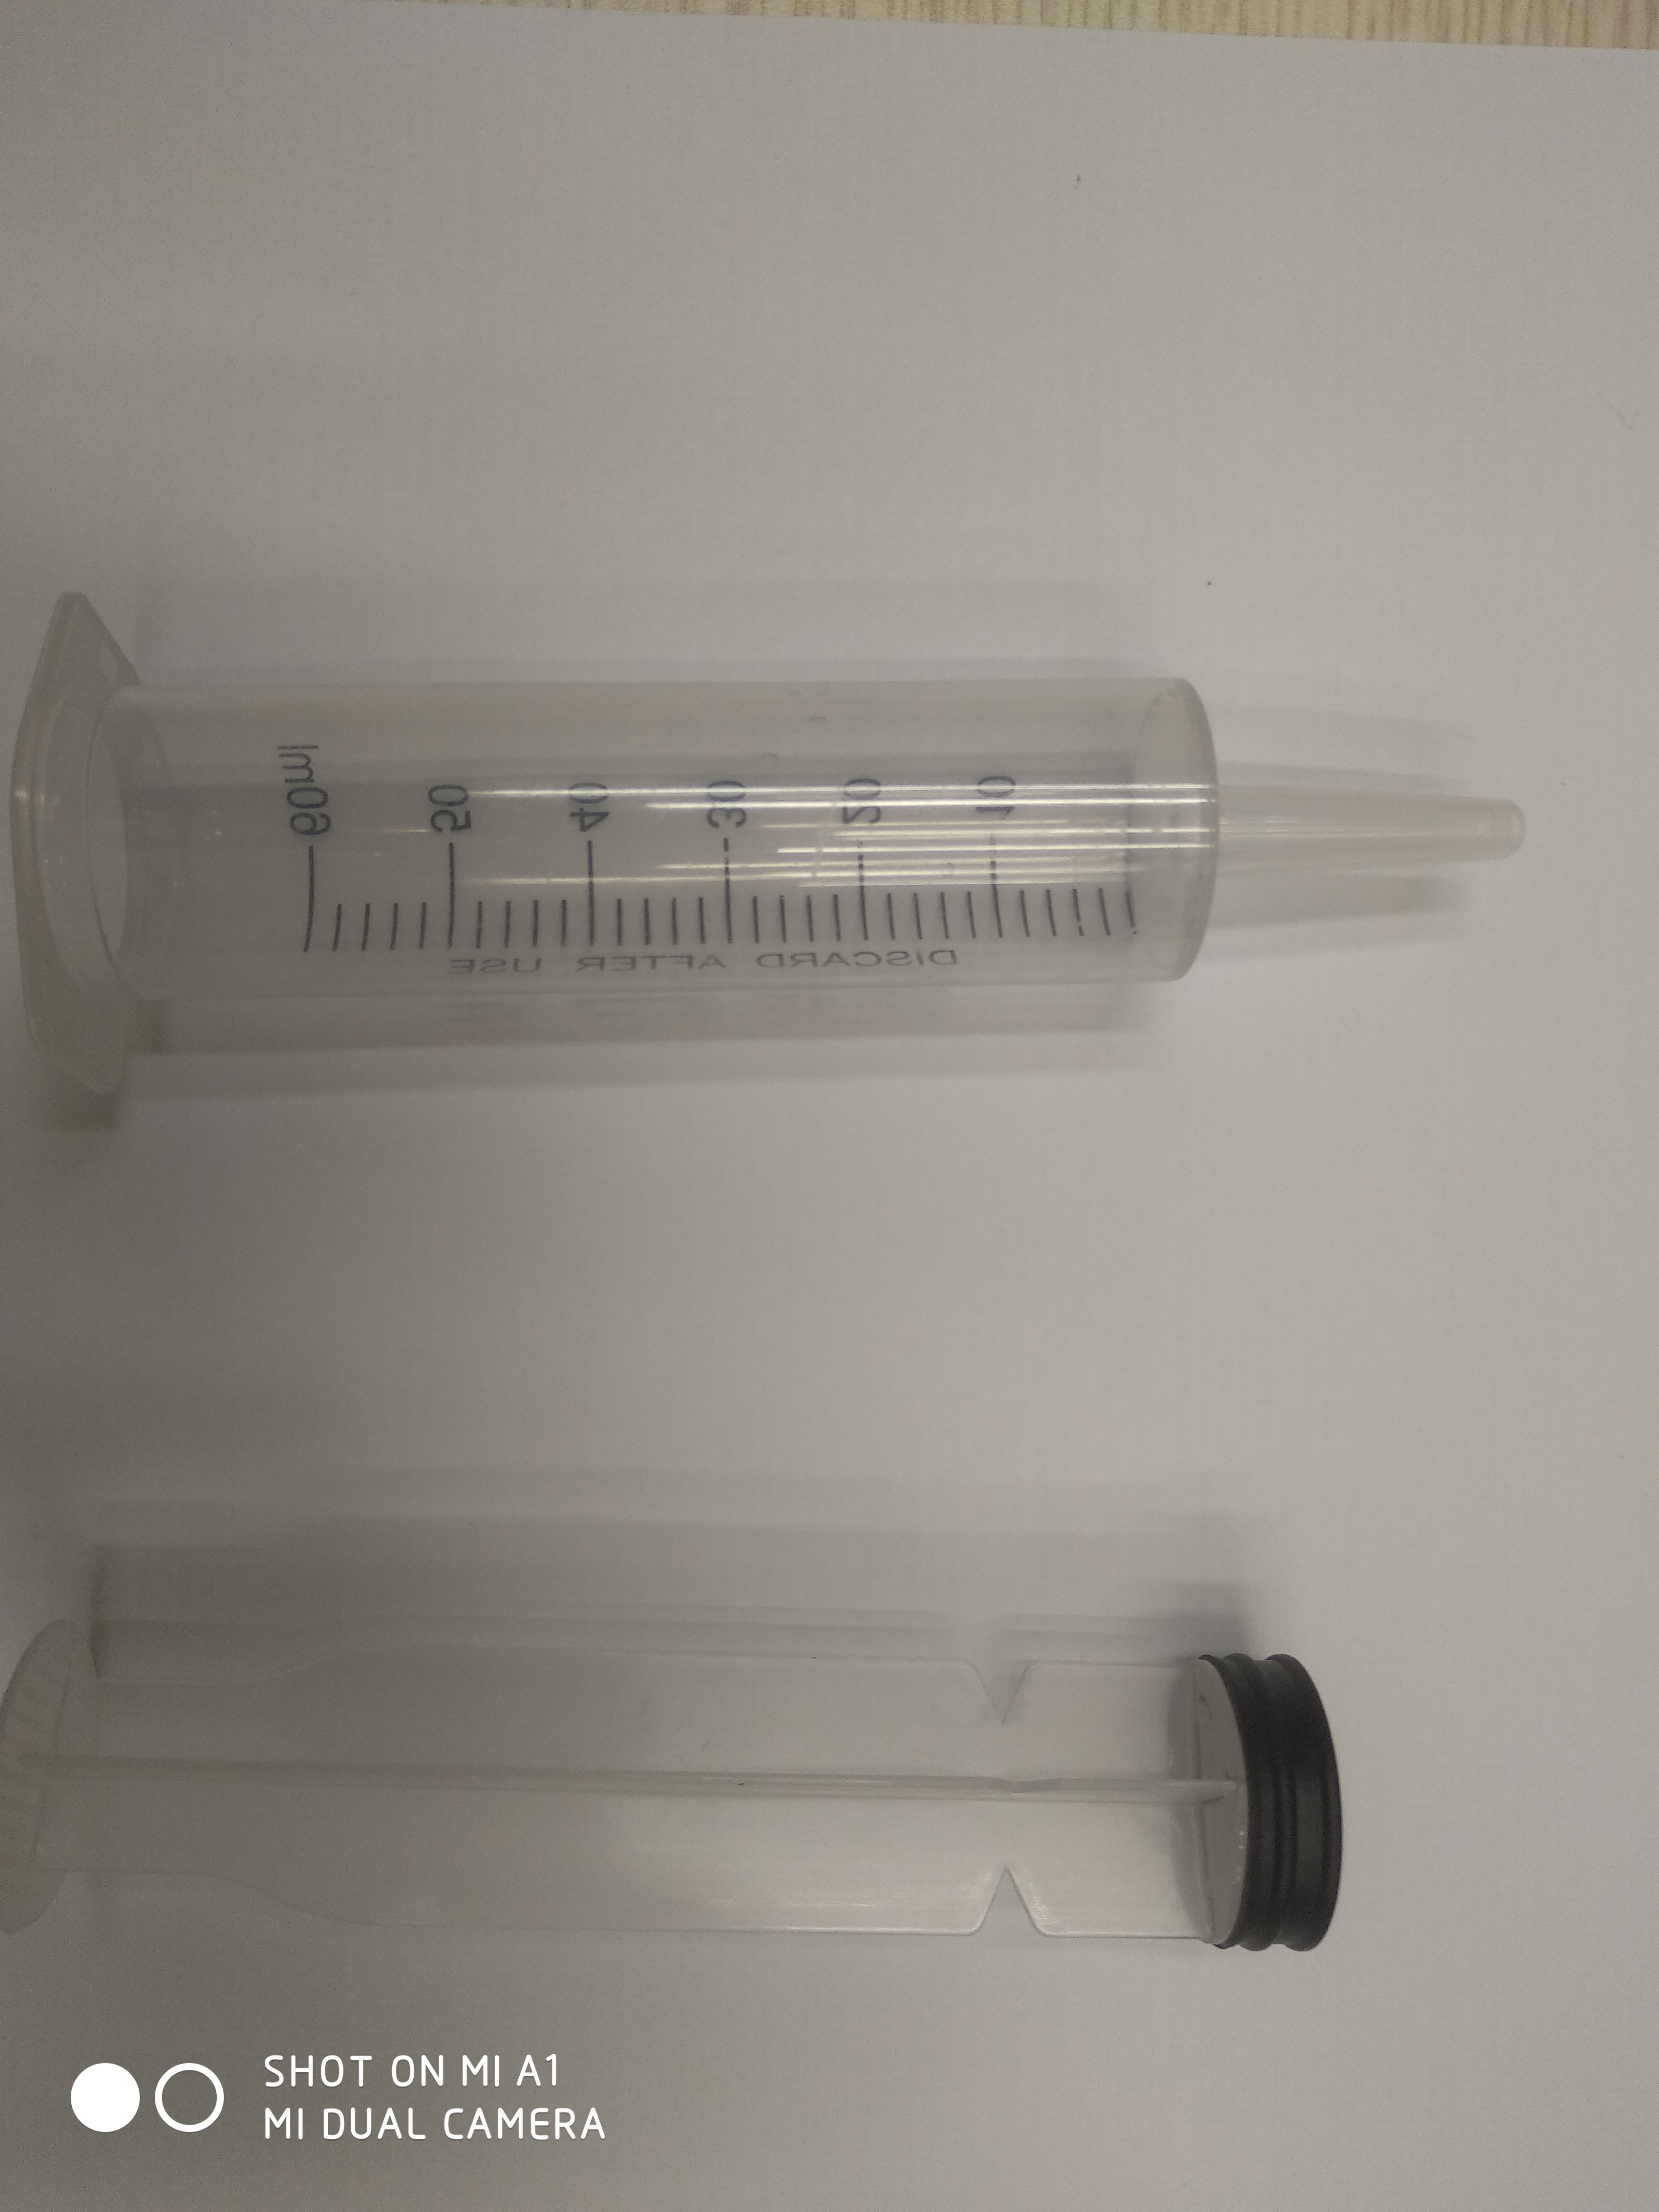plunger: (5, 1588, 1364, 1977)
syringe: (7, 585, 1551, 1116)
